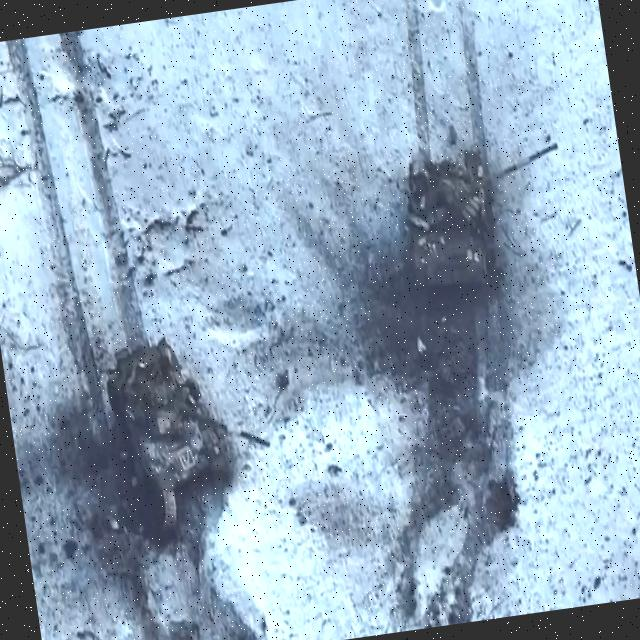MBT: (92, 327, 275, 510), (394, 139, 580, 302)
